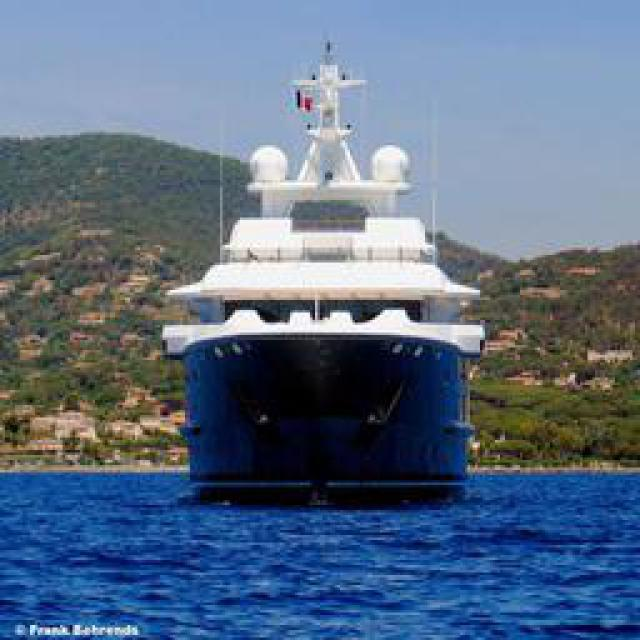Ship: (165, 14, 493, 497)
